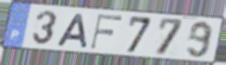3: (30, 10, 58, 47)
7: (156, 17, 186, 57), (127, 14, 153, 54)
9: (186, 20, 214, 59)
A: (54, 12, 90, 49)
F: (89, 14, 125, 51)
